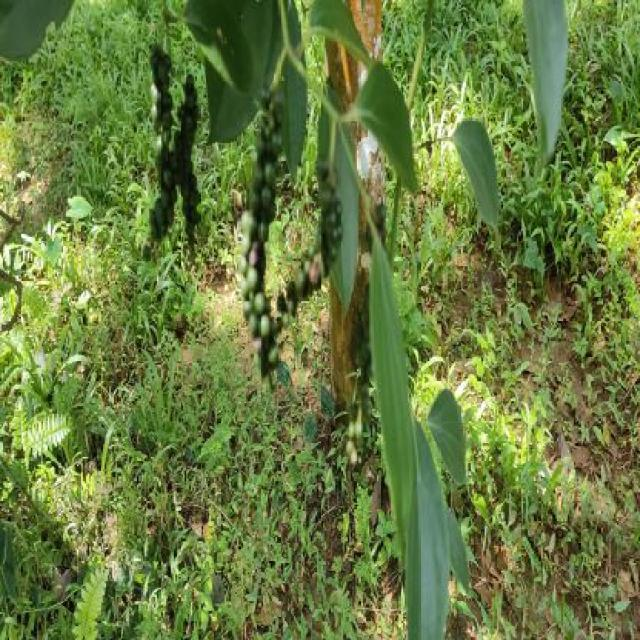UNRIPE: (240, 89, 282, 377), (285, 157, 342, 309), (143, 54, 175, 261), (175, 76, 200, 247)
